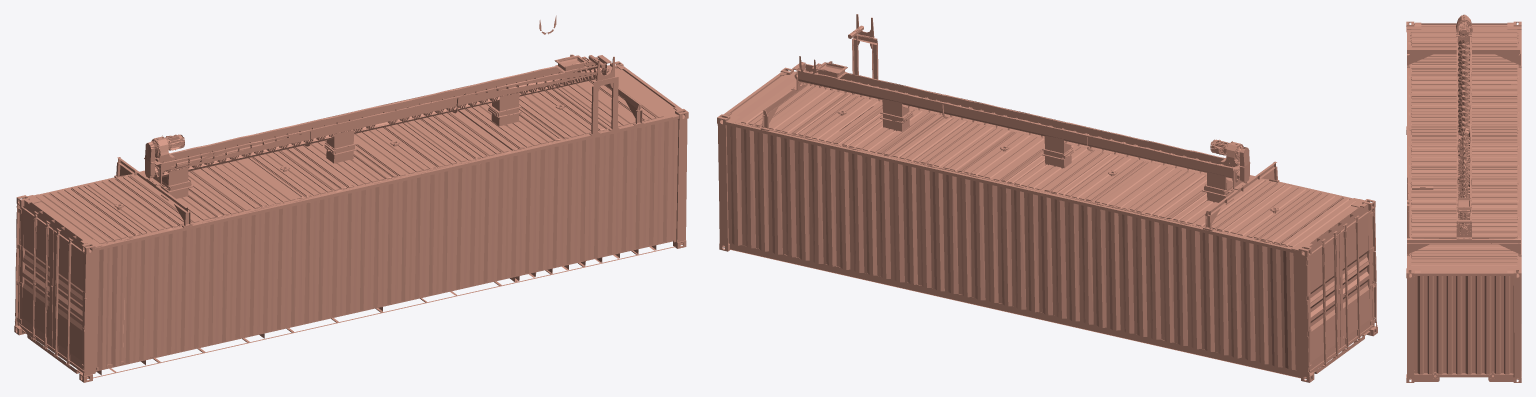
The model's file is reactor_candidate_2.glb.
The picture shows the model from 3 angles, left to right: view 1: azimuth 30°, elevation 25°; view 2: azimuth 150°, elevation 25°; view 3: azimuth 270°, elevation 25°; orthographic projection. The views are drawn at different scales.
Visible parts, largest first — view 1: world; view 2: world; view 3: world.
Part boxes in pixels (box(x1,y1,x2,y2)): world: box(14, 15, 688, 382); world: box(717, 14, 1377, 382); world: box(1406, 14, 1521, 382).
Size of the model in its own units: 12.28 by 4.01 by 2.44.
